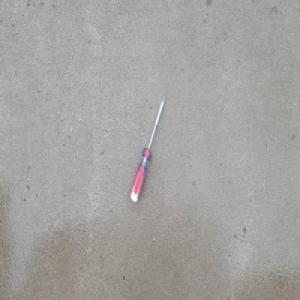Screwdriver: (130, 93, 167, 203)
